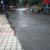zebra: (1, 14, 49, 46)
